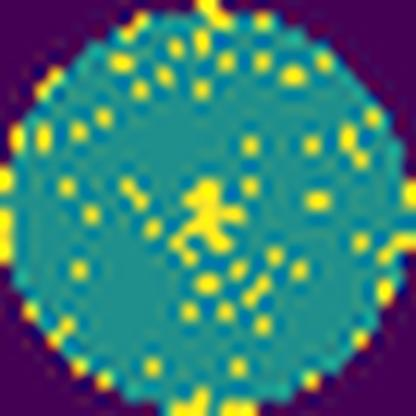Center: (172, 183, 247, 254)
